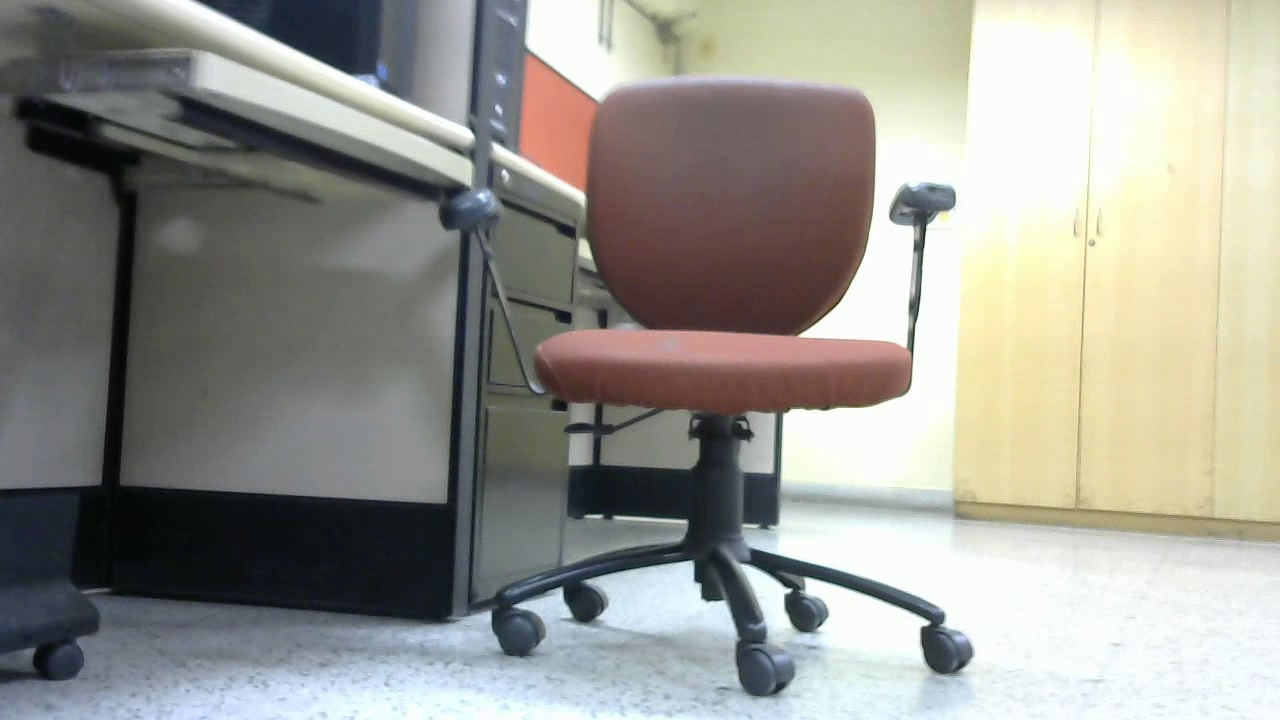chair: (432, 78, 979, 696)
